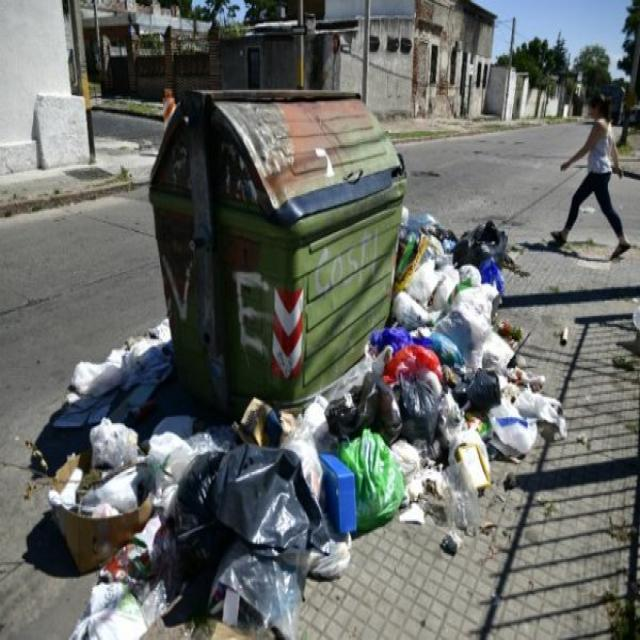garbage: (35, 317, 324, 640), (403, 210, 574, 522), (322, 323, 435, 575)
